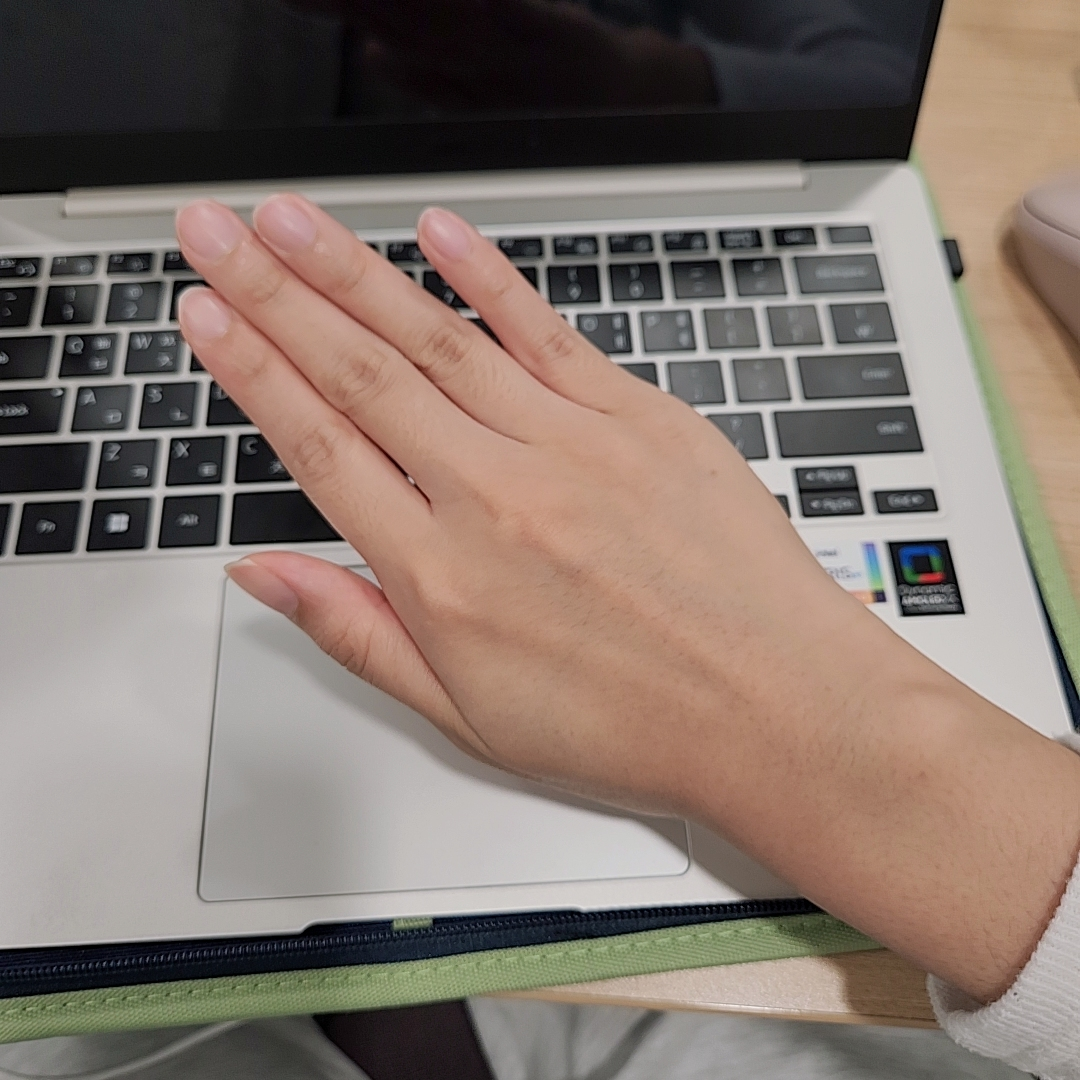me: (171, 193, 849, 845)
